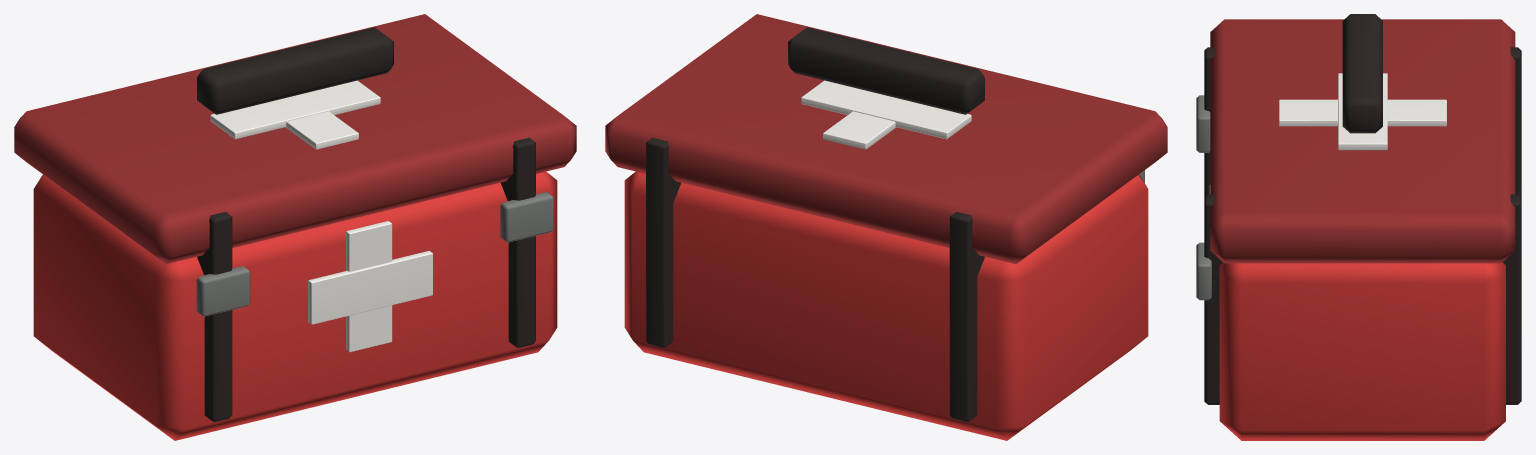
File: RS_09_loot_medkit_LOD0.glb
The picture shows the model from 3 angles, left to right: view 1: azimuth 30°, elevation 25°; view 2: azimuth 150°, elevation 25°; view 3: azimuth 270°, elevation 25°; orthographic projection.
Parts seen in each view (by area): view 1: medkit_case_body, medkit_soft_lid, medkit_handle, front_white_cross_horizontal, left_vertical_strap, right_vertical_strap, top_white_cross_horizontal, front_white_cross_vertical, left_buckle, right_buckle, top_white_cross_vertical; view 2: medkit_case_body, medkit_soft_lid, medkit_handle, left_vertical_strap, right_vertical_strap, top_white_cross_horizontal, top_white_cross_vertical; view 3: medkit_soft_lid, medkit_case_body, right_vertical_strap, medkit_handle, top_white_cross_vertical, left_vertical_strap, top_white_cross_horizontal, right_buckle, left_buckle.
Part boxes in pixels (bbox=[...]): medkit_case_body: bbox=[33, 171, 557, 440]; medkit_soft_lid: bbox=[14, 14, 576, 263]; medkit_handle: bbox=[197, 27, 393, 114]; front_white_cross_horizontal: bbox=[308, 251, 432, 324]; left_vertical_strap: bbox=[197, 212, 232, 422]; right_vertical_strap: bbox=[501, 137, 535, 347]; top_white_cross_horizontal: bbox=[210, 80, 380, 139]; front_white_cross_vertical: bbox=[346, 221, 392, 352]; left_buckle: bbox=[196, 266, 250, 316]; right_buckle: bbox=[500, 192, 553, 242]; top_white_cross_vertical: bbox=[285, 111, 358, 149]; medkit_case_body: bbox=[624, 171, 1148, 440]; medkit_soft_lid: bbox=[605, 14, 1167, 263]; medkit_handle: bbox=[788, 27, 984, 114]; left_vertical_strap: bbox=[949, 212, 984, 422]; right_vertical_strap: bbox=[646, 137, 680, 347]; top_white_cross_horizontal: bbox=[801, 80, 971, 139]; top_white_cross_vertical: bbox=[823, 111, 896, 149]; medkit_soft_lid: bbox=[1210, 19, 1515, 263]; medkit_case_body: bbox=[1219, 262, 1505, 440]; right_vertical_strap: bbox=[1204, 194, 1521, 404]; medkit_handle: bbox=[1342, 14, 1382, 133]; top_white_cross_vertical: bbox=[1279, 99, 1446, 126]; left_vertical_strap: bbox=[1204, 47, 1521, 197]; top_white_cross_horizontal: bbox=[1338, 73, 1387, 150]; right_buckle: bbox=[1196, 242, 1211, 300]; left_buckle: bbox=[1196, 95, 1210, 152].
Size of the model in its own units: 1.56 by 1.06 by 1.04.
